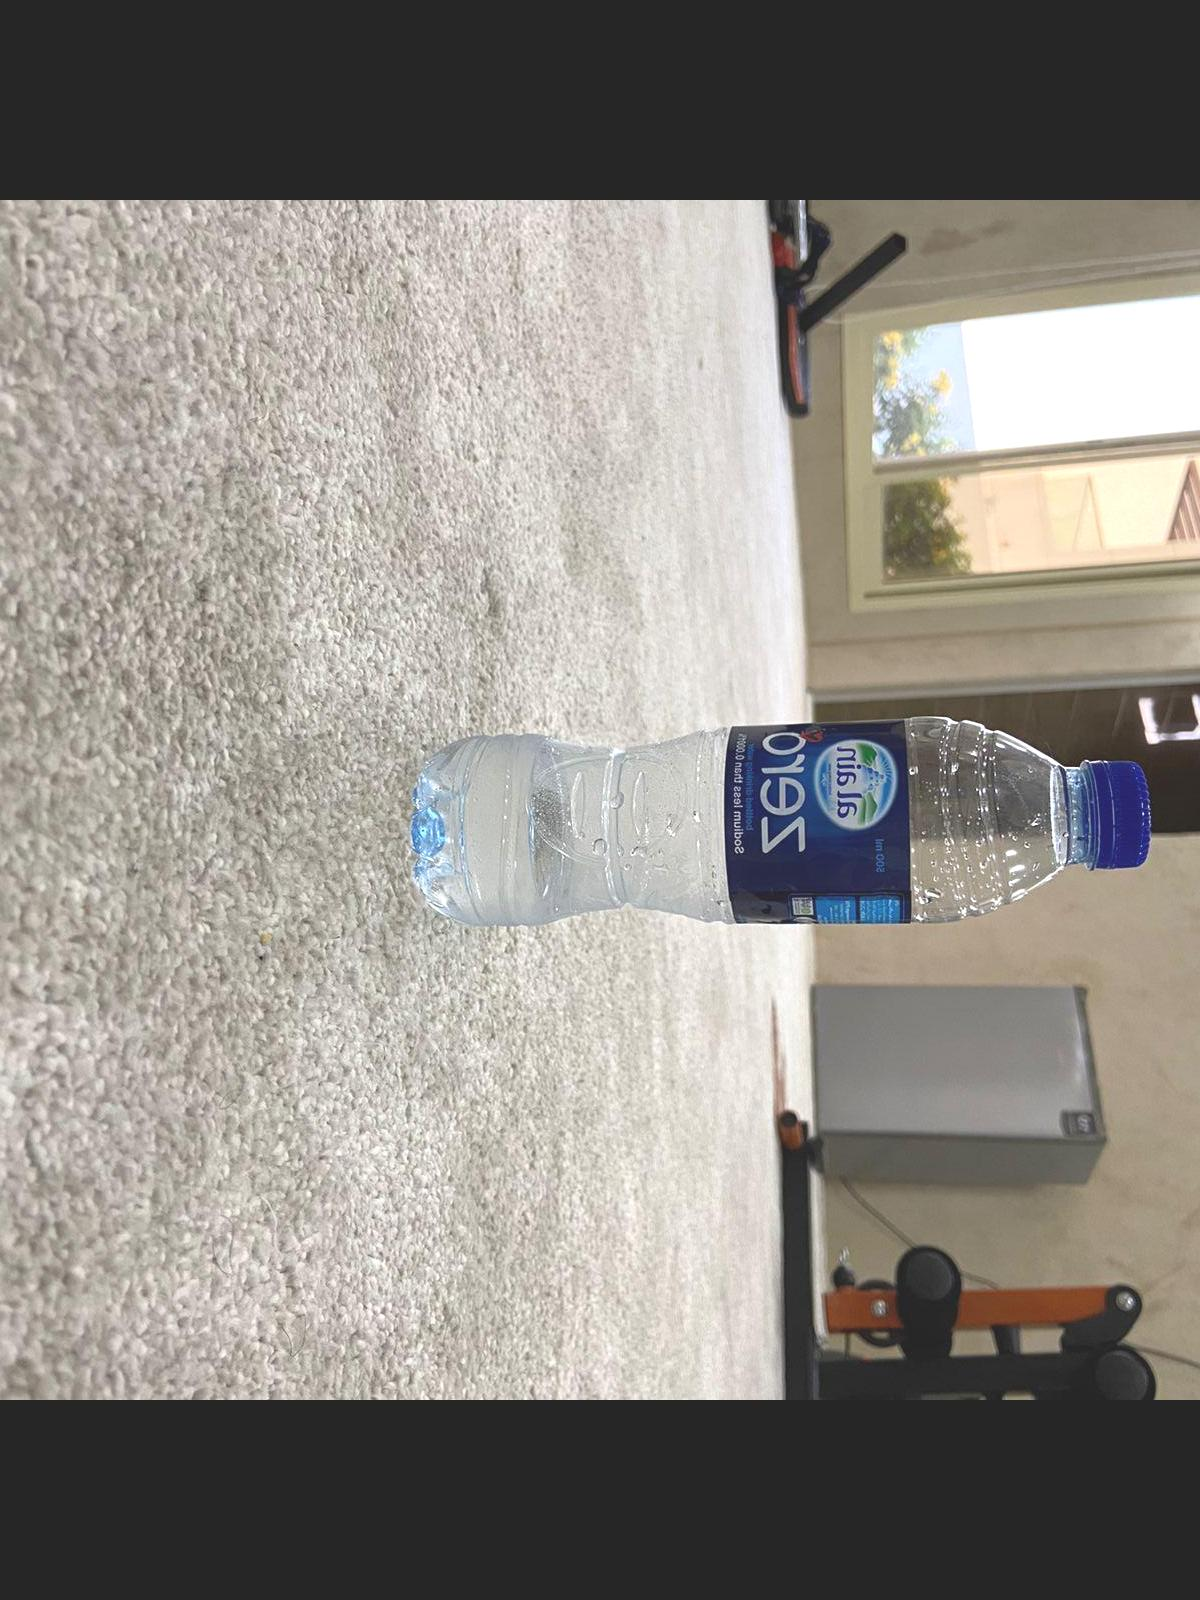bottle: (405, 708, 1162, 939)
